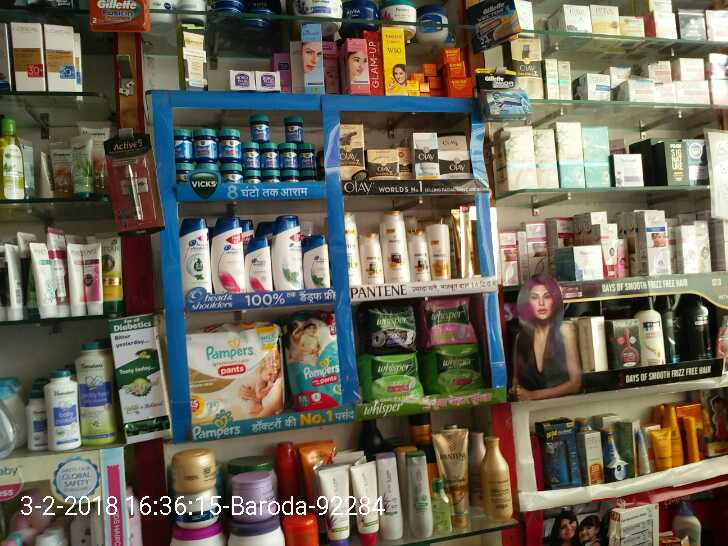beauty: (209, 218, 248, 292), (272, 214, 305, 294), (182, 215, 214, 295), (380, 208, 408, 286), (297, 237, 334, 290), (244, 235, 271, 298), (338, 121, 365, 183), (426, 214, 450, 276), (413, 129, 440, 183), (405, 229, 428, 286), (366, 146, 401, 181), (444, 151, 468, 180)
pharmacy: (183, 320, 281, 432), (287, 313, 341, 411), (352, 288, 415, 352), (420, 294, 480, 347), (362, 353, 426, 400), (433, 346, 486, 392), (217, 125, 243, 161), (248, 107, 273, 144), (173, 124, 195, 162), (280, 116, 308, 144), (192, 128, 215, 161), (244, 139, 267, 171), (264, 138, 281, 167), (278, 142, 297, 167), (300, 144, 317, 171)
